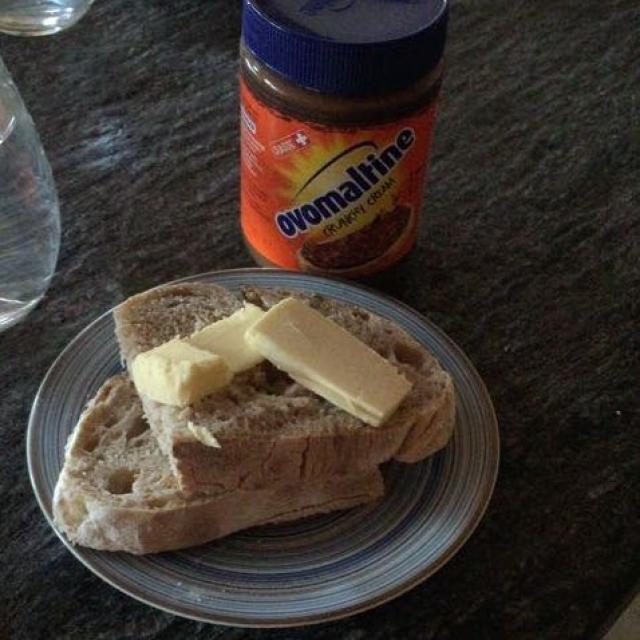bread: (61, 282, 449, 554)
butter: (138, 293, 442, 416)
